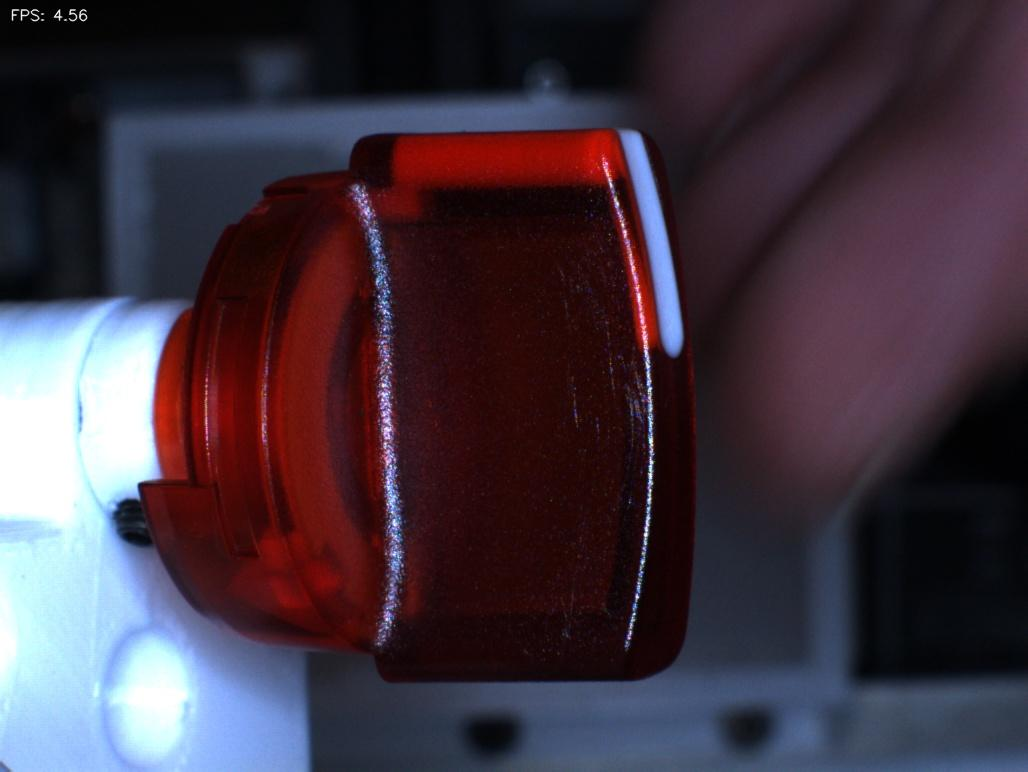Givrage: (552, 275, 651, 627)
